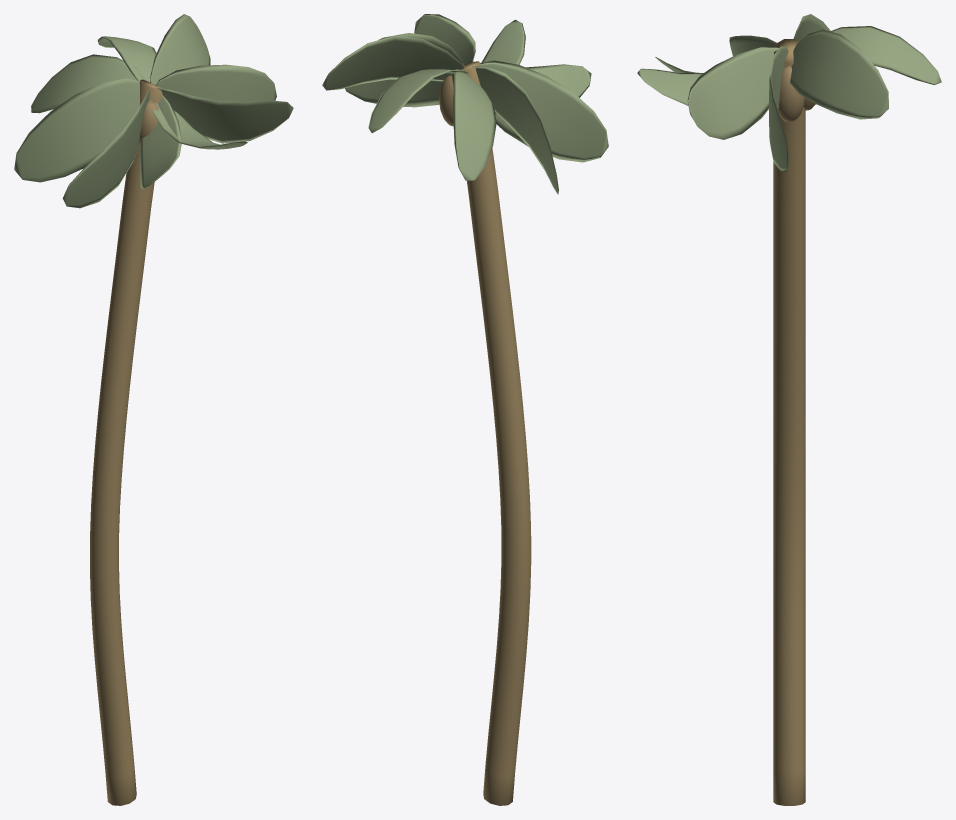
File: coconutpalm.glb
3 renders of one model, left to right at view 1: azimuth 30°, elevation 25°; view 2: azimuth 150°, elevation 25°; view 3: azimuth 270°, elevation 25°, orthographic. The views are drawn at different scales.
Parts seen in each view (by area): view 1: curved-rooted-palm-trunk, split-palm-frond-5, split-palm-frond-1, split-palm-frond-0, split-palm-frond-4, split-palm-frond-6, split-palm-frond-8, split-palm-frond-3, split-palm-frond-7, split-palm-frond-2; view 2: curved-rooted-palm-trunk, split-palm-frond-4, split-palm-frond-8, split-palm-frond-6, split-palm-frond-5, split-palm-frond-7, split-palm-frond-0, split-palm-frond-1, split-palm-frond-2, split-palm-frond-3, coconut-0; view 3: curved-rooted-palm-trunk, split-palm-frond-8, split-palm-frond-1, split-palm-frond-7, split-palm-frond-0, split-palm-frond-2, coconut-0, split-palm-frond-4.
Boxes of the visible parts, x1,y1,x2,y2 form: curved-rooted-palm-trunk: (90,79,163,805); split-palm-frond-5: (14,78,143,182); split-palm-frond-1: (156,87,293,143); split-palm-frond-0: (156,64,276,101); split-palm-frond-4: (62,89,150,208); split-palm-frond-6: (31,54,149,113); split-palm-frond-8: (150,14,210,84); split-palm-frond-3: (140,95,182,189); split-palm-frond-7: (97,36,156,81); split-palm-frond-2: (149,100,247,149); curved-rooted-palm-trunk: (451,61,531,805); split-palm-frond-4: (480,60,608,162); split-palm-frond-8: (322,35,464,90); split-palm-frond-6: (453,69,496,180); split-palm-frond-5: (472,66,558,194); split-palm-frond-7: (368,69,468,132); split-palm-frond-0: (345,33,464,107); split-palm-frond-1: (414,14,475,63); split-palm-frond-2: (481,19,525,64); split-palm-frond-3: (526,64,591,97); coconut-0: (439,75,453,126); curved-rooted-palm-trunk: (773,39,805,805); split-palm-frond-8: (790,29,888,119); split-palm-frond-1: (687,47,779,139); split-palm-frond-7: (830,26,941,84); split-palm-frond-0: (769,46,789,171); split-palm-frond-2: (637,68,703,105); coconut-0: (778,66,805,122); split-palm-frond-4: (729,35,776,56).
Size of the model in its own units: 1.2 by 3.59 by 1.22.
